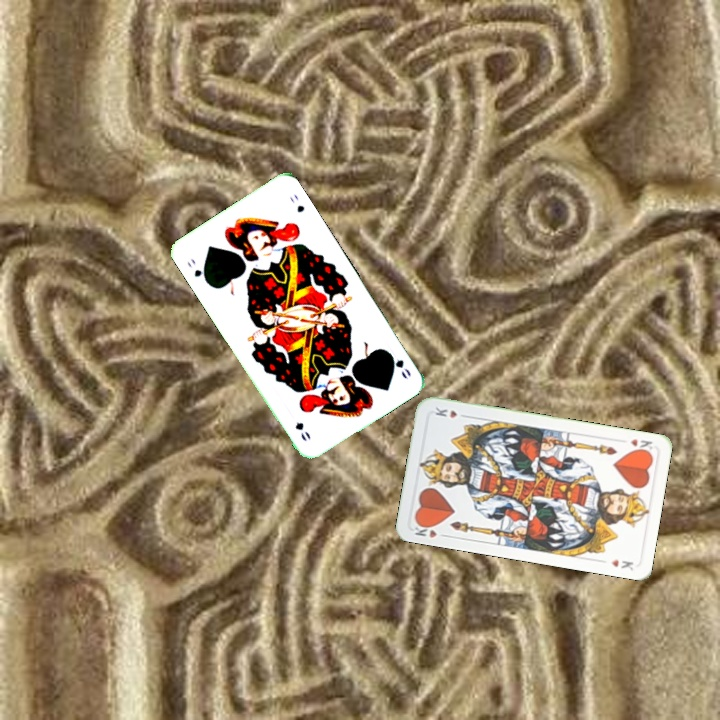GO: (382, 347, 414, 382), (183, 254, 210, 286)
HK: (410, 518, 450, 540), (626, 435, 655, 455)
